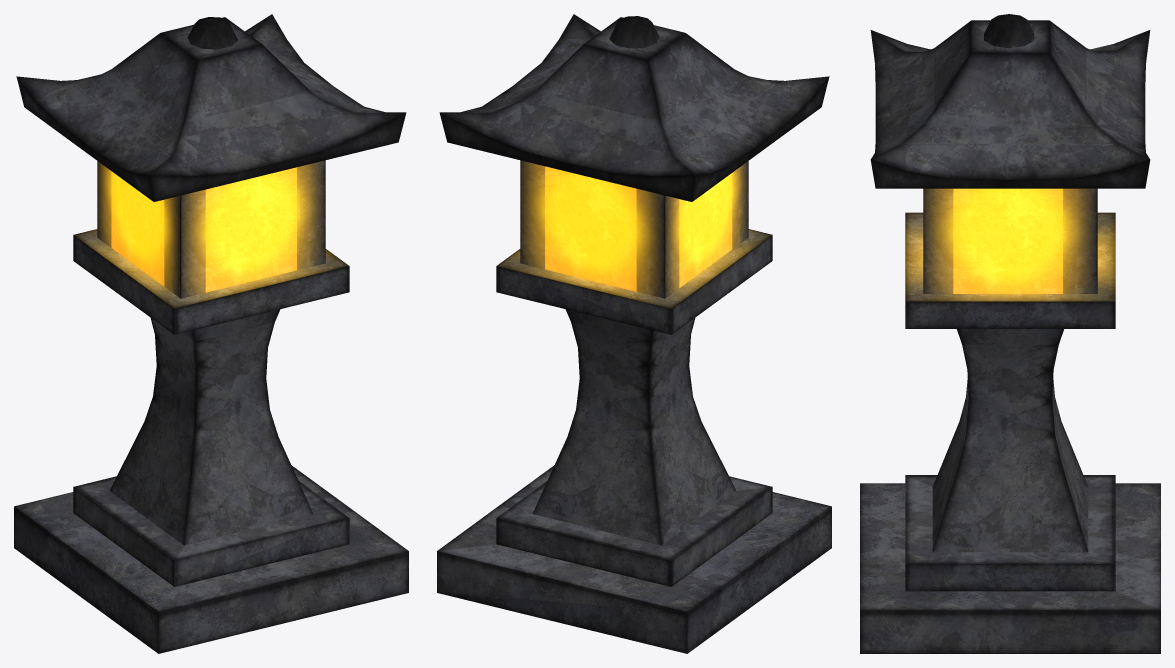
The model's file is Japanese_Lantern_Lowpoly.fbx.
The picture shows the model from 3 angles, left to right: view 1: azimuth 30°, elevation 25°; view 2: azimuth 150°, elevation 25°; view 3: azimuth 270°, elevation 25°; orthographic projection. The views are drawn at different scales.
Parts seen in each view (by area): view 1: SM_Lantern; view 2: SM_Lantern; view 3: SM_Lantern.
Part boxes in pixels (x1=…): SM_Lantern: x1=14, y1=14, x2=408, y2=653; SM_Lantern: x1=437, y1=14, x2=831, y2=653; SM_Lantern: x1=860, y1=14, x2=1160, y2=653.
Size of the model in its own units: 51.1 by 105 by 50.
1 material, 1 textured.
